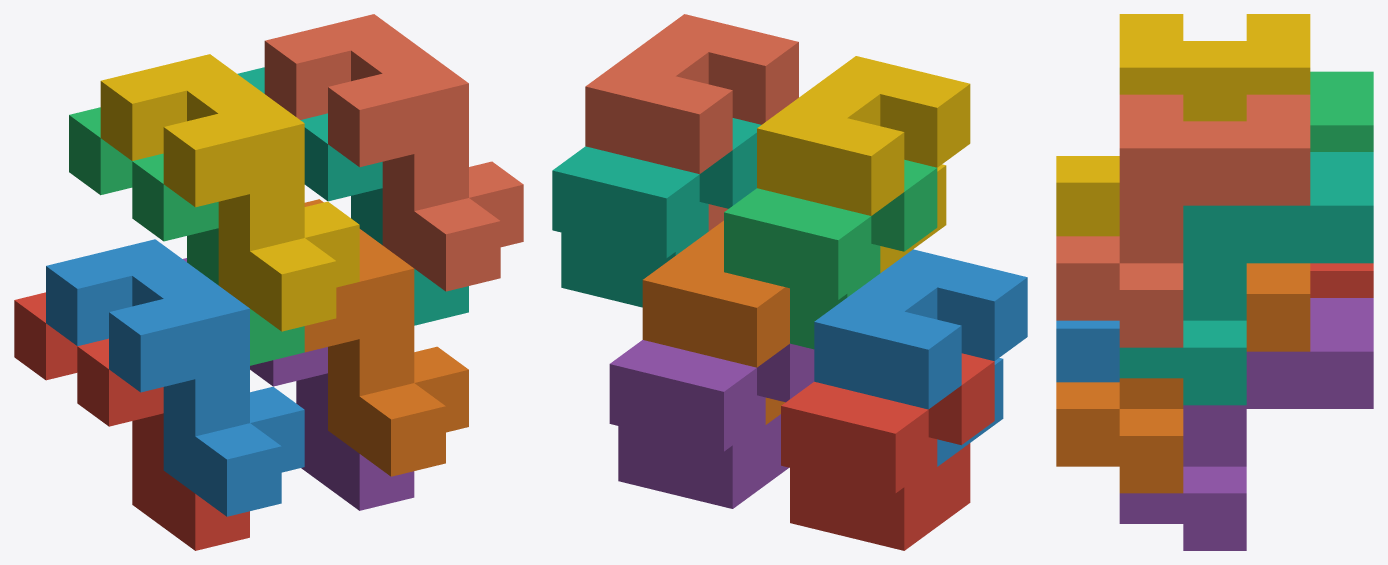
The model's file is tiling.obj.
3 views of the same model, side by side, from view 1: azimuth 30°, elevation 25°; view 2: azimuth 150°, elevation 25°; view 3: azimuth 270°, elevation 25° (orthographic). The views are drawn at different scales.
Visible parts, largest first — view 1: copy_1_domain_4, copy_1_domain_2, copy_1_domain_8, copy_1_domain_6, copy_1_domain_1, copy_1_domain_3, copy_1_domain_5, copy_1_domain_7; view 2: copy_1_domain_1, copy_1_domain_5, copy_1_domain_2, copy_1_domain_4, copy_1_domain_8, copy_1_domain_7, copy_1_domain_3, copy_1_domain_6; view 3: copy_1_domain_8, copy_1_domain_7, copy_1_domain_5, copy_1_domain_4, copy_1_domain_6, copy_1_domain_3, copy_1_domain_2, copy_1_domain_1.
Part boxes in pixels (x1,y1,x2,y2): copy_1_domain_4: (100, 54, 359, 331); copy_1_domain_2: (46, 239, 304, 516); copy_1_domain_8: (264, 14, 523, 291); copy_1_domain_6: (304, 199, 468, 476); copy_1_domain_1: (14, 292, 249, 550); copy_1_domain_3: (69, 107, 304, 365); copy_1_domain_5: (183, 258, 414, 510); copy_1_domain_7: (237, 67, 468, 325); copy_1_domain_1: (781, 353, 994, 550); copy_1_domain_5: (609, 340, 814, 508); copy_1_domain_2: (814, 249, 1027, 466); copy_1_domain_4: (757, 56, 970, 272); copy_1_domain_8: (585, 14, 798, 231); copy_1_domain_7: (552, 118, 760, 307); copy_1_domain_3: (724, 159, 937, 349); copy_1_domain_6: (642, 220, 789, 424); copy_1_domain_8: (1056, 94, 1310, 347); copy_1_domain_7: (1119, 152, 1373, 405); copy_1_domain_5: (1119, 298, 1373, 550); copy_1_domain_4: (1056, 14, 1310, 236); copy_1_domain_6: (1056, 263, 1310, 493); copy_1_domain_3: (1310, 71, 1373, 151); copy_1_domain_2: (1056, 320, 1119, 382); copy_1_domain_1: (1310, 263, 1373, 297).
Size of the model in its own units: 7 by 7 by 5.
